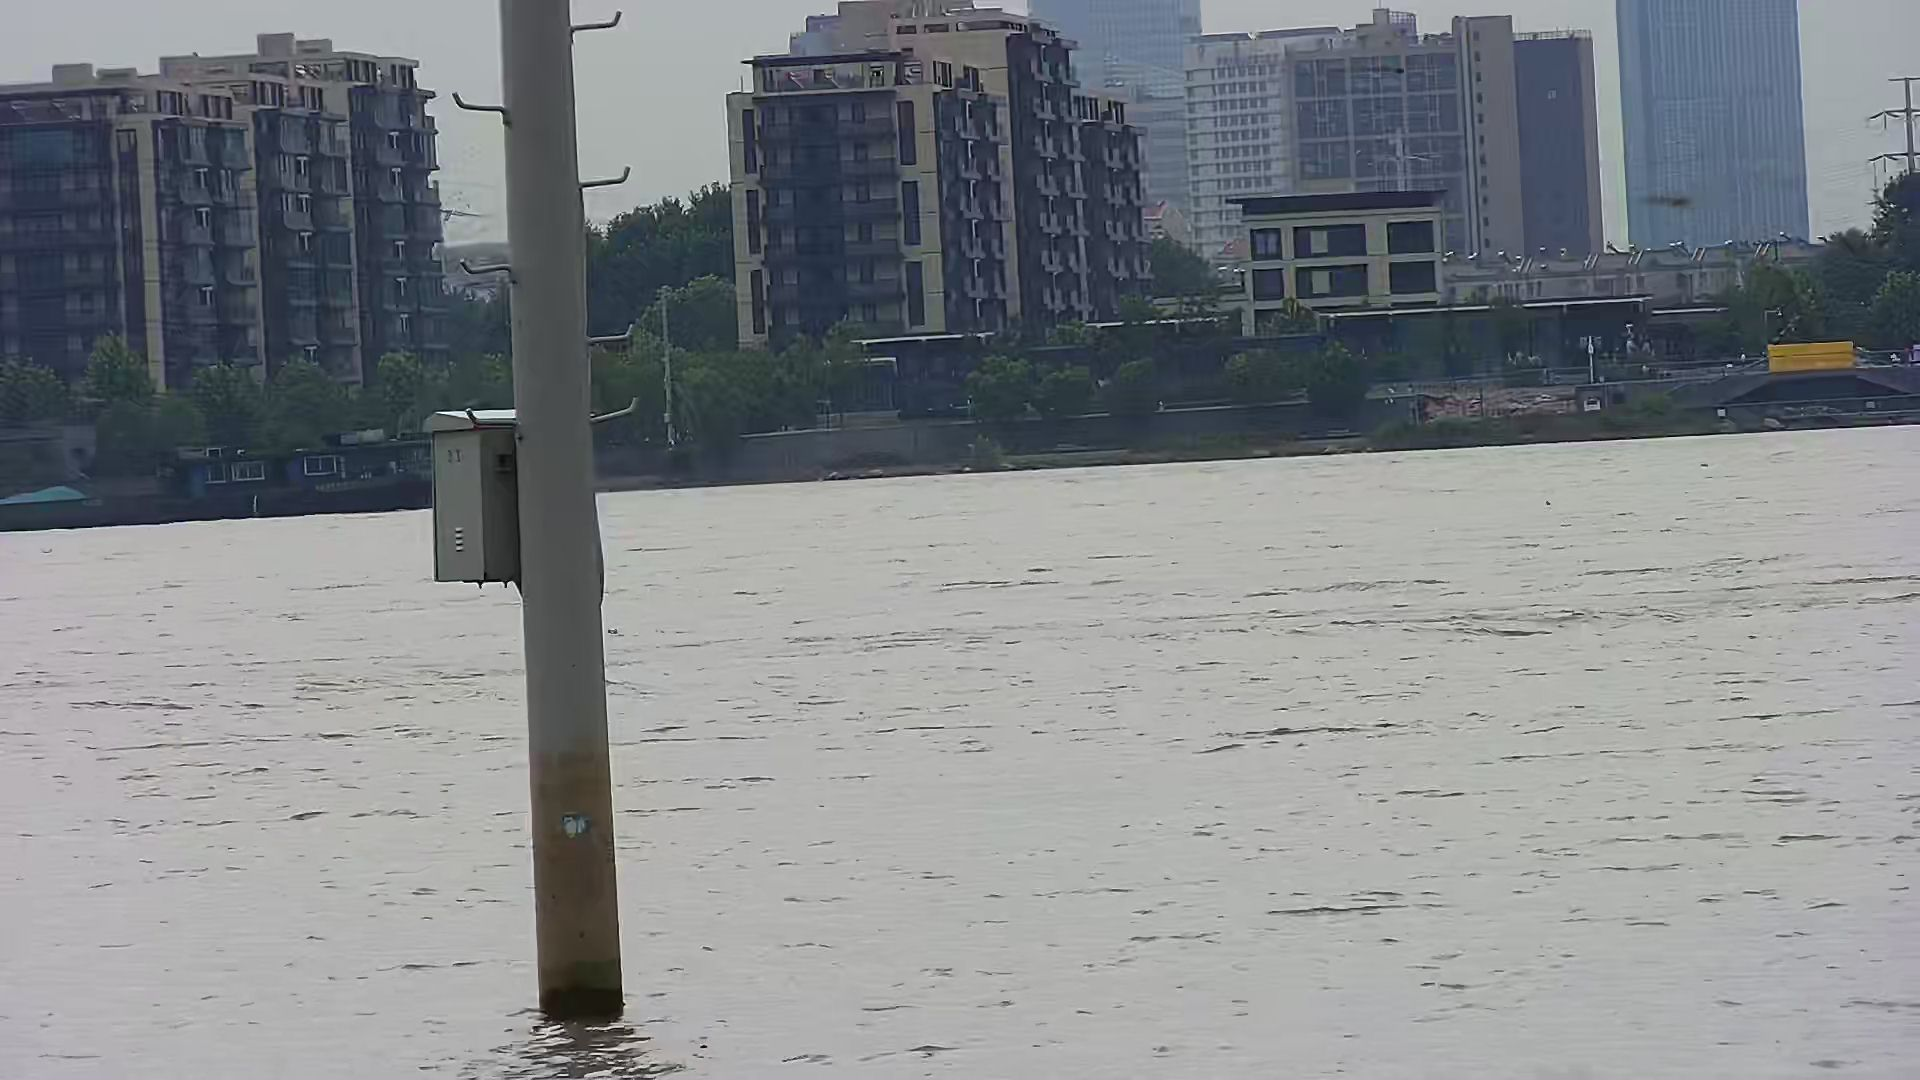mast: (429, 3, 636, 1023)
ship: (1, 419, 433, 533)
